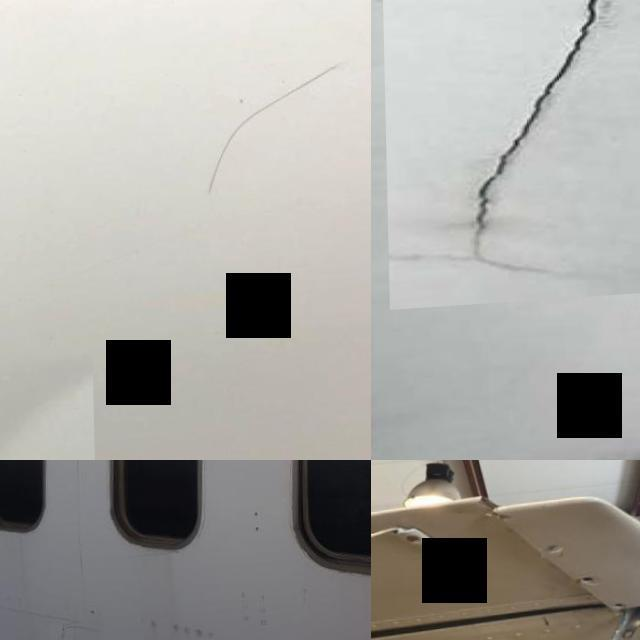Crack: (381, 0, 640, 311), (46, 623, 101, 640)
Dent: (0, 357, 91, 460)
Missing_Fastener: (540, 546, 562, 562), (578, 579, 600, 591), (608, 605, 626, 616)
